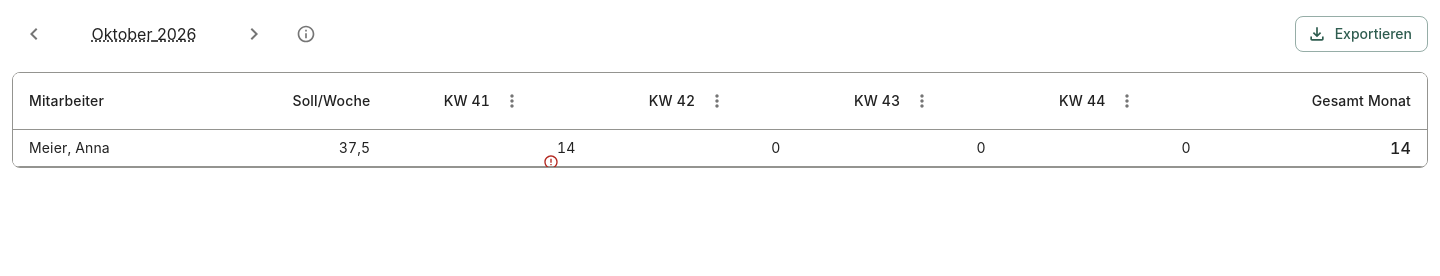
Test: MonthOverviewView › does nothing on hover at mobile width - tap still opens the warning tooltip
Hover over the button named "Fehler anzeigen" at {"x": 552, "y": 162}, box [530,140,574,184]
Click the button named "Fehler anzeigen" at {"x": 552, "y": 162}, box [530,140,574,184]
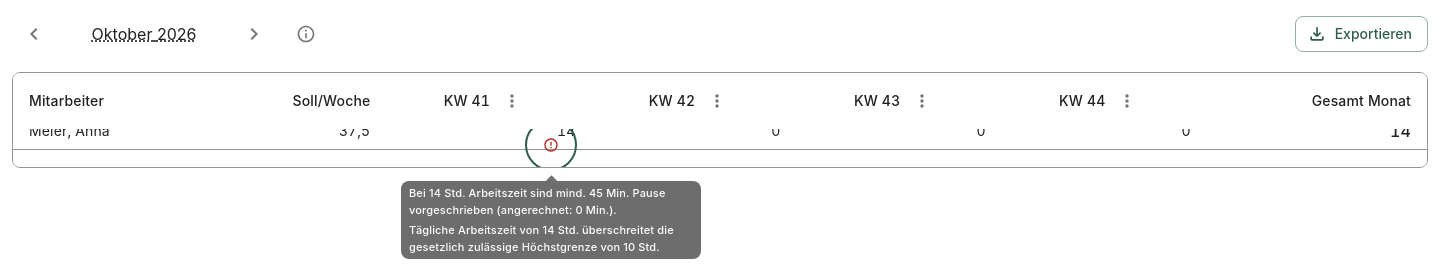
Expected: the text "überschreitet die gesetzlich zulässige Höchstgrenze" is shown, [409,223,674,254]
